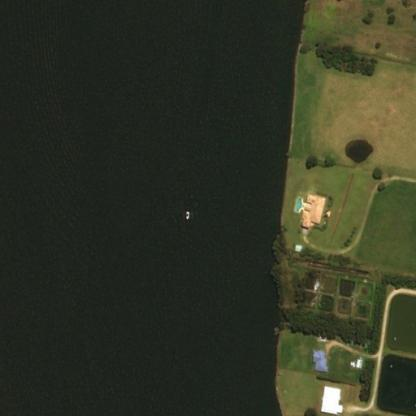ship: (178, 203, 195, 226)
